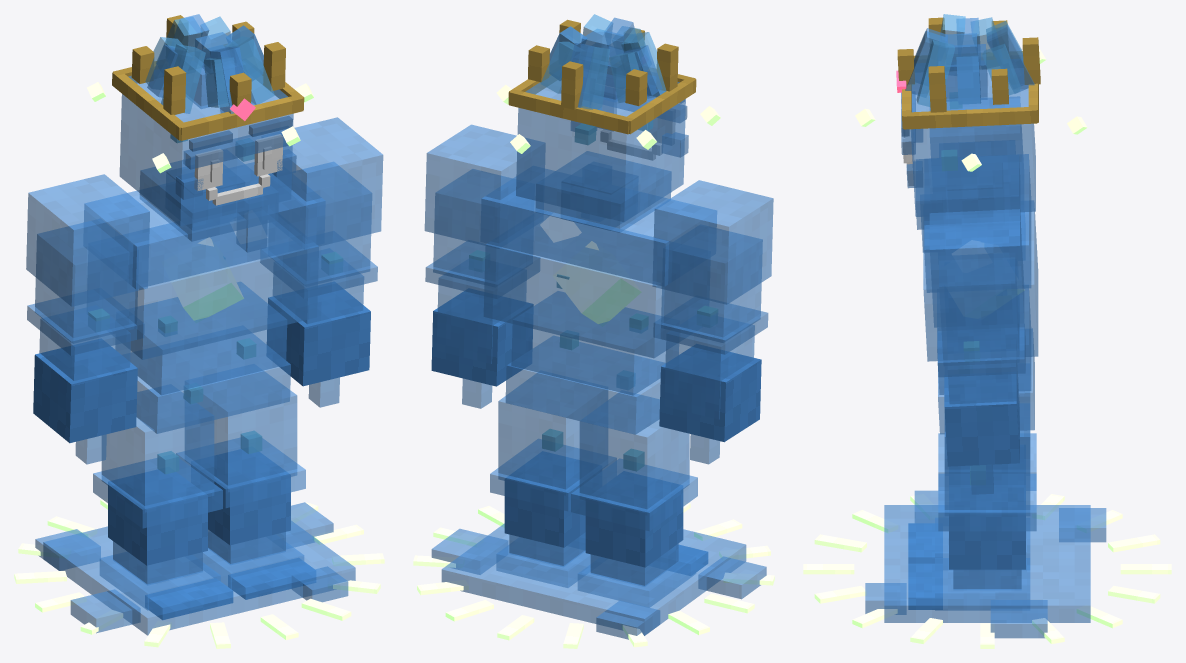
File: slime_base_v3_evo3.glb
3 views of the same model, side by side, from view 1: azimuth 30°, elevation 25°; view 2: azimuth 150°, elevation 25°; view 3: azimuth 270°, elevation 25° (orthographic). The views are drawn at different scales.
Parts seen in each view (by area): view 1: Torso, Head, ArmR, Root, ArmL, LegR, LegL; view 2: Torso, Head, ArmR, Root, ArmL, LegR, LegL; view 3: Root, Head, ArmL, LegL, Torso, LegR, ArmR.
Part boxes in pixels (x1=…): Torso: x1=84, y1=162, x2=325, y2=433; Head: x1=87, y1=14, x2=313, y2=252; ArmR: x1=26, y1=174, x2=149, y2=464; Root: x1=14, y1=498, x2=384, y2=648; ArmL: x1=260, y1=117, x2=383, y2=407; LegR: x1=93, y1=389, x2=232, y2=619; LegL: x1=176, y1=371, x2=314, y2=599; Torso: x1=480, y1=169, x2=716, y2=434; Head: x1=496, y1=14, x2=720, y2=232; ArmR: x1=653, y1=180, x2=773, y2=464; Root: x1=413, y1=502, x2=774, y2=648; ArmL: x1=424, y1=124, x2=545, y2=408; LegR: x1=571, y1=392, x2=707, y2=607; LegL: x1=490, y1=373, x2=616, y2=587; Root: x1=803, y1=490, x2=1171, y2=648; Head: x1=855, y1=14, x2=1087, y2=252; ArmL: x1=929, y1=209, x2=1025, y2=494; LegL: x1=908, y1=403, x2=1036, y2=610; Torso: x1=923, y1=154, x2=1038, y2=434; LegR: x1=908, y1=391, x2=1036, y2=563; ArmR: x1=930, y1=96, x2=1022, y2=161.
Bounding box in the file's own units: 1.16 × 1.89 × 1.16.
Materials: 21 (21 with a texture image).
